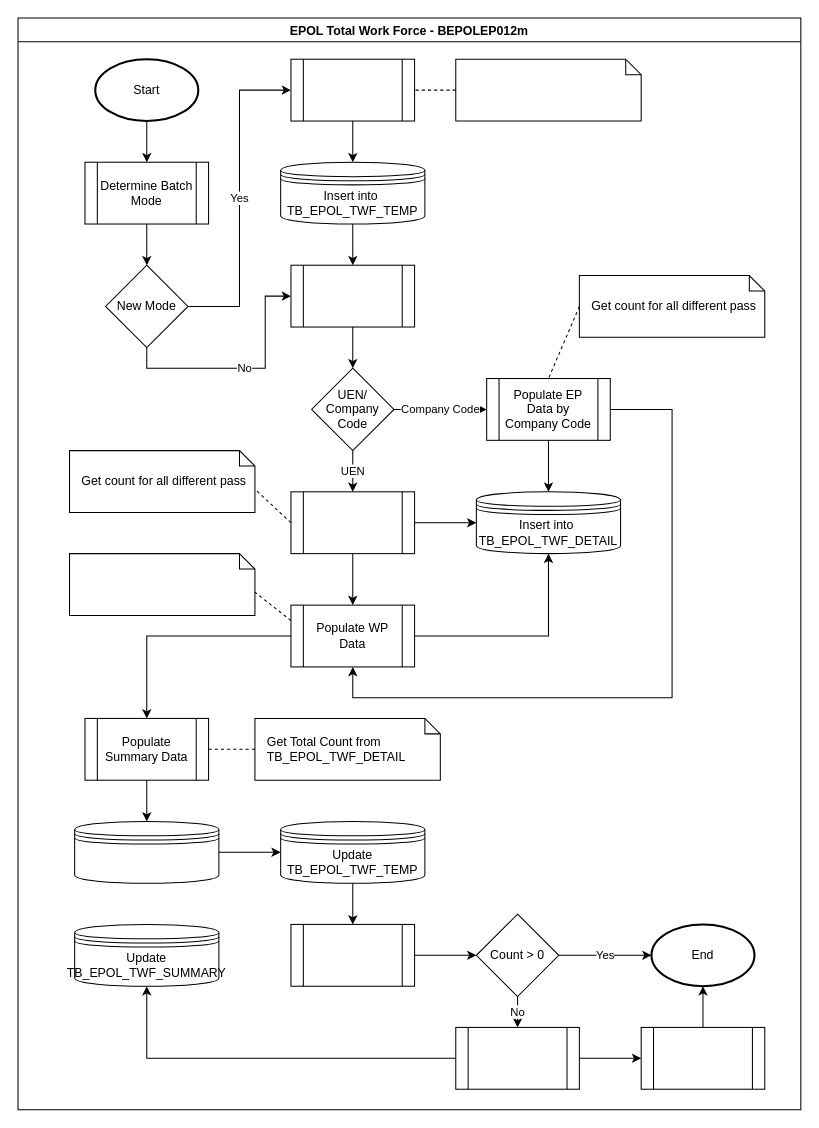
The diagram is 819 pixels wide and 1128 high, and some of its shapes have lost their labels. The shapes that lost their labels are listed below. From the top down, each one's centre as x and y in pixels, then its label:
At point 352,89: "Populate temp records".
At point 548,89: "Get Unique UEN/CompanyCode with Live Pass".
At point 352,295: "Process records".
At point 352,522: "Populate EP Data by UEN".
At point 161,584: "Get count by calling EP_GET_FCF_TWF".
At point 146,851: "Insert into TB_EPOL_TWF_SUMMARY".
At point 352,954: "Get Unprocessed count".
At point 517,1057: "Update effectiveInd".
At point 702,1057: "Purge TB_EPOL_TWF_TEMP".
